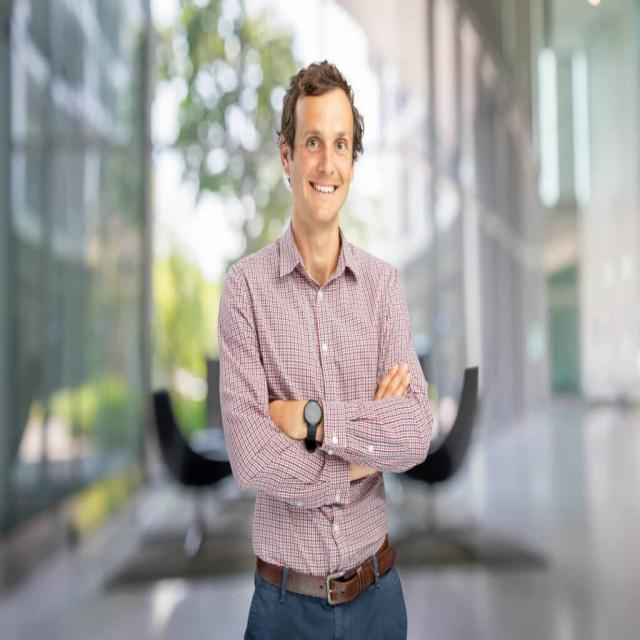nothing: (270, 55, 372, 146)
